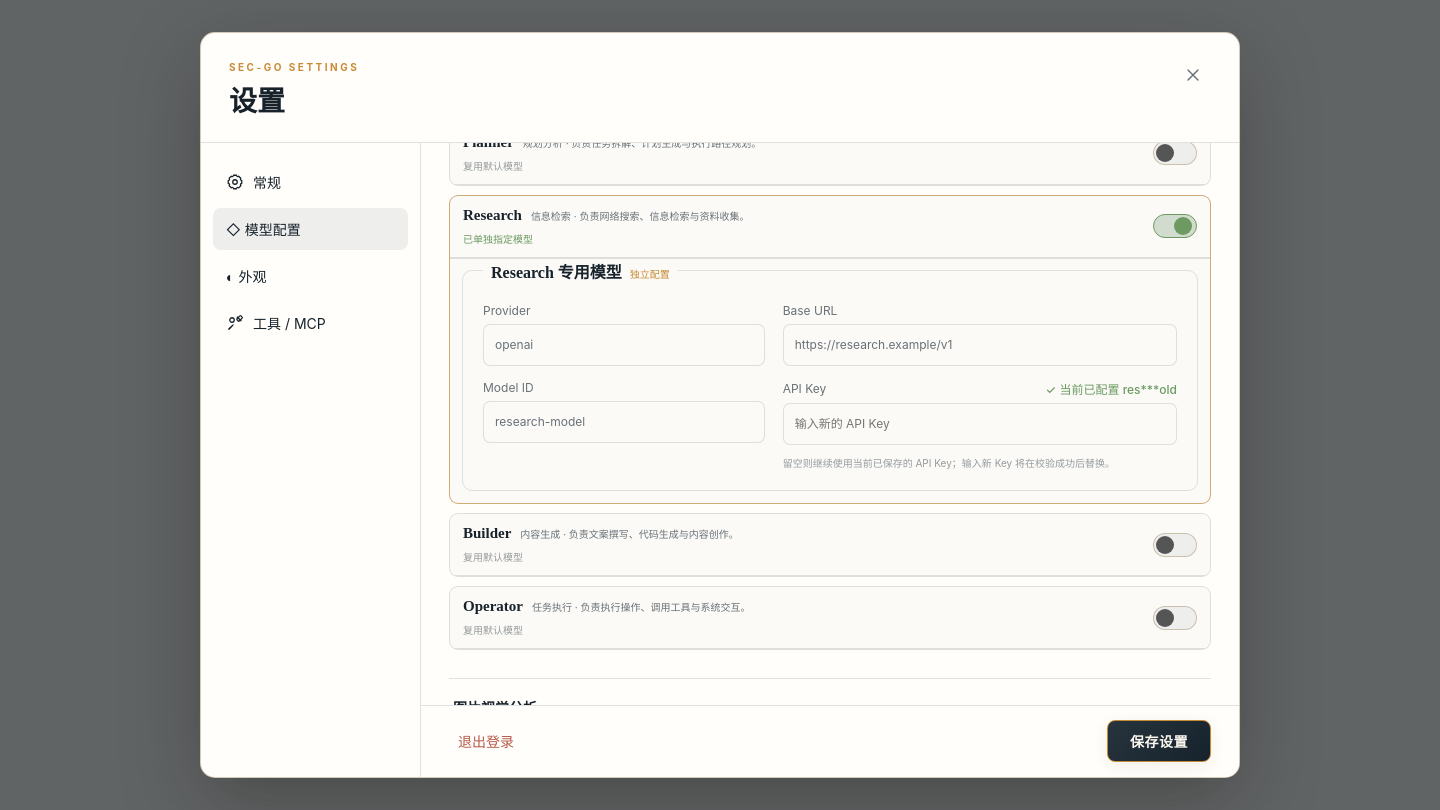
Test: SettingsPanel model settings › keeps the old mask visible beside a failed replacement
This screenshot has width=1440, height=810.
(page scrolled)
Type "bad-research-key" into the password field named "Research 专用模型 API Key" at (980, 424), box [783,403,1177,445]
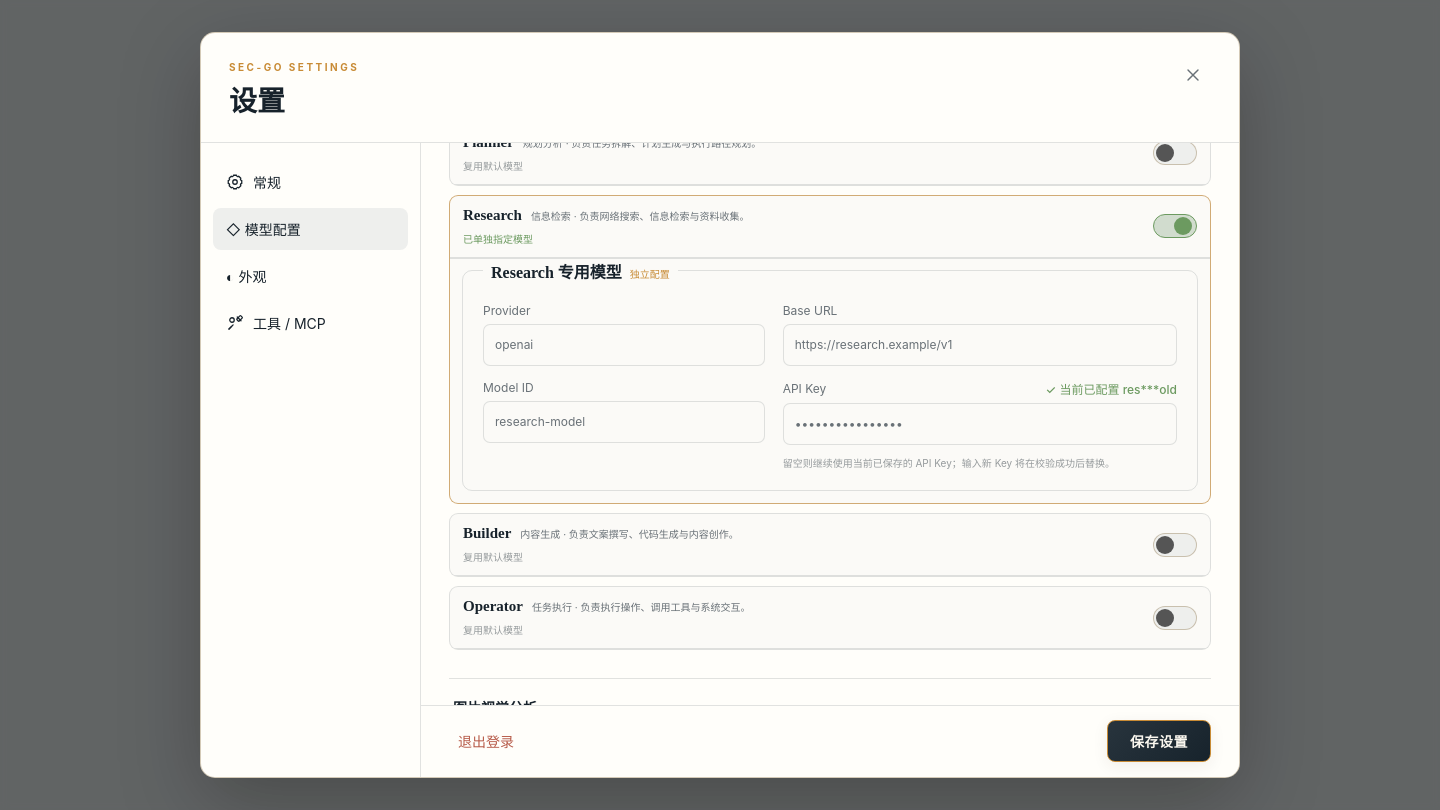
Click the button "保存设置" at (1159, 741), box [1107,720,1211,762]
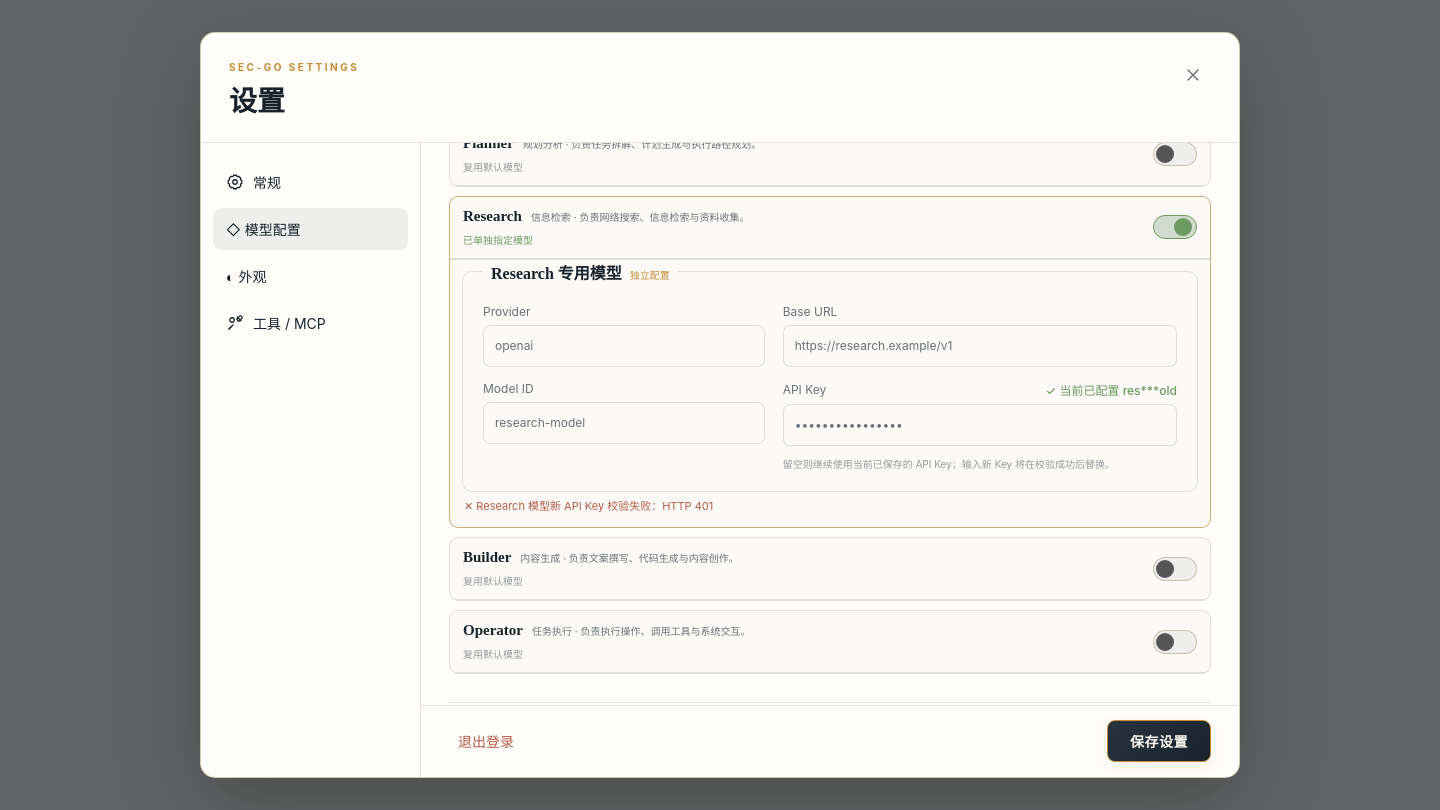
Expected: the text "✓ 当前已配置 res***old" is shown, [1046,381,1177,398]
Expected: the text "✕ Research 模型新 API Key 校验失败：HTTP 401" is shown, [464,499,713,513]
